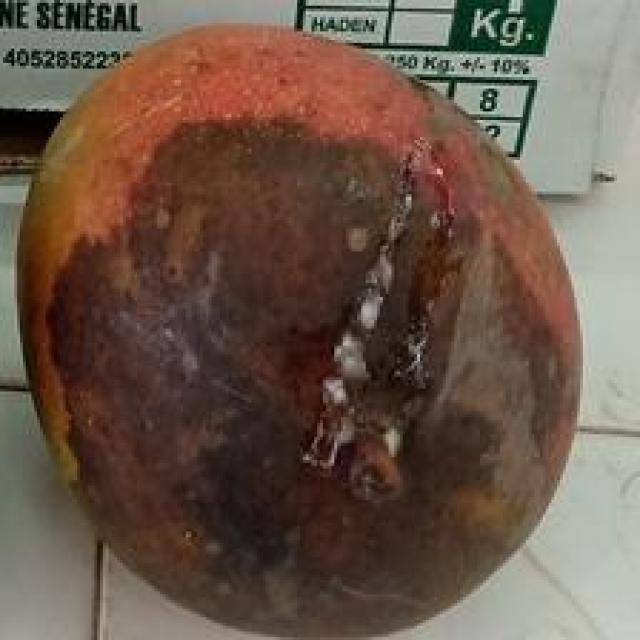Bad_Mango: (19, 28, 581, 634)
